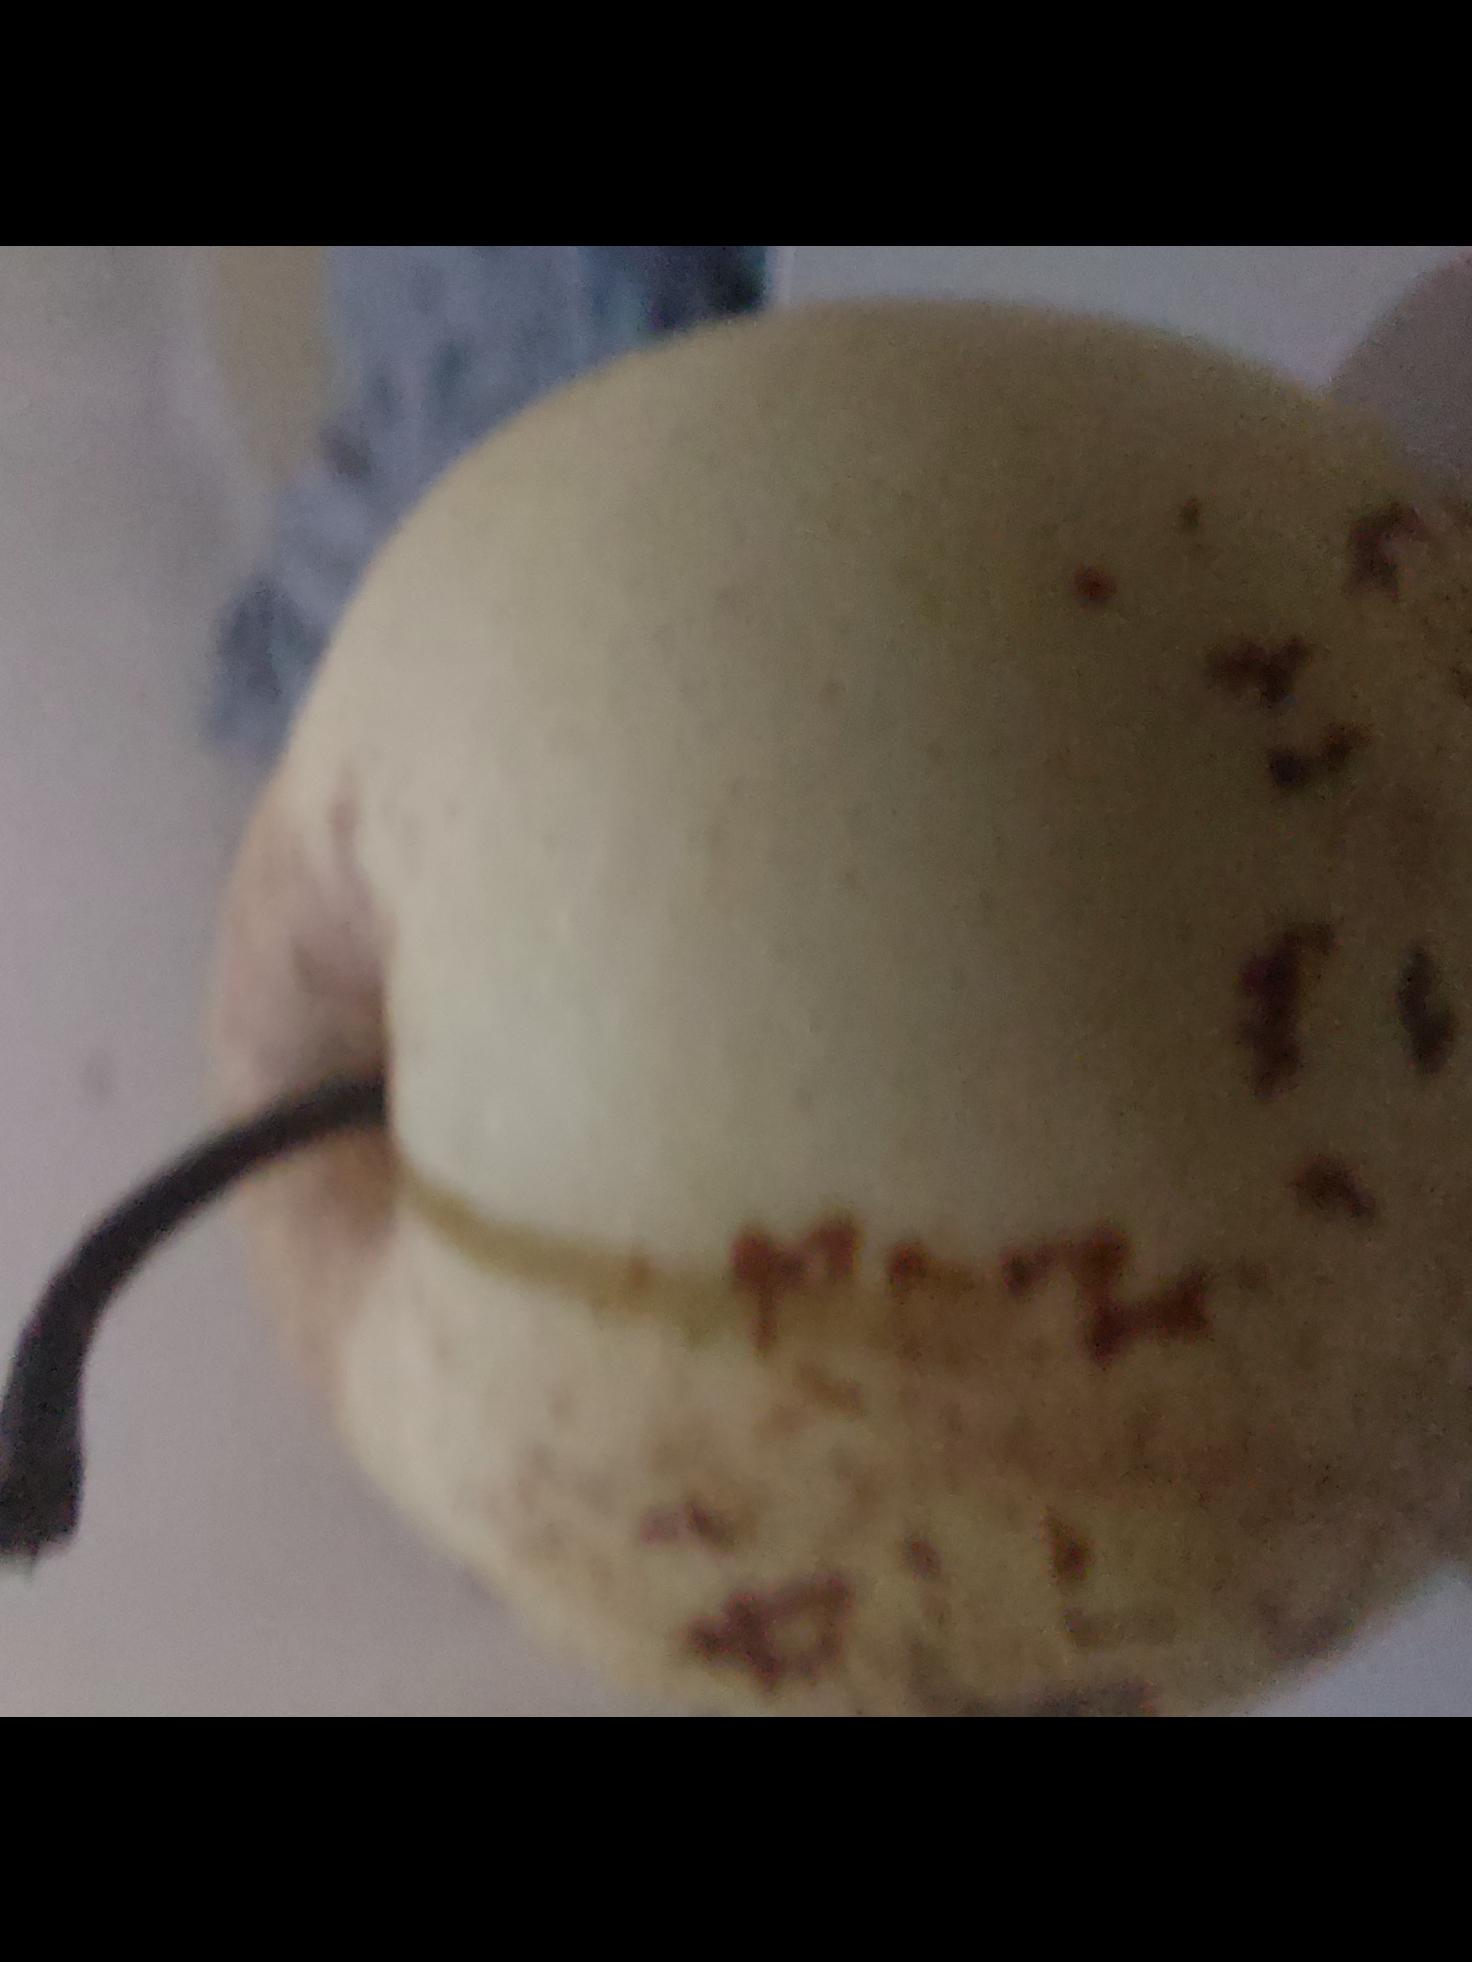Bad Pear: (220, 244, 1472, 1718)
